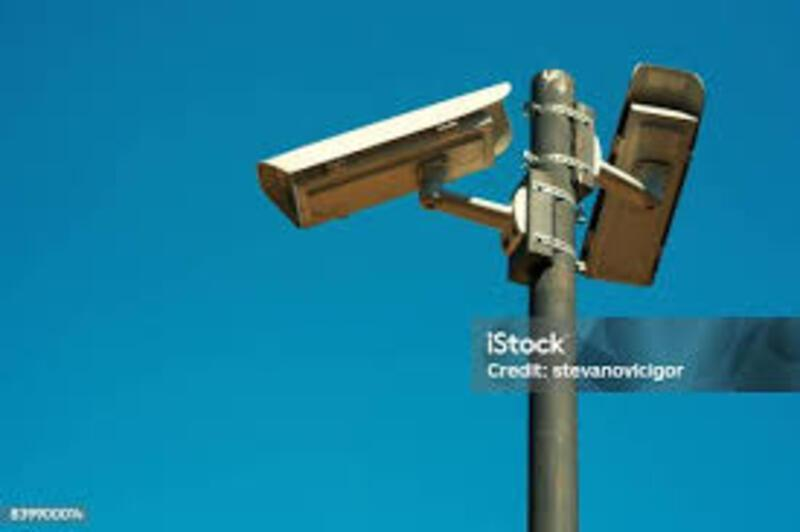box: (241, 157, 523, 269), (627, 51, 737, 271)
